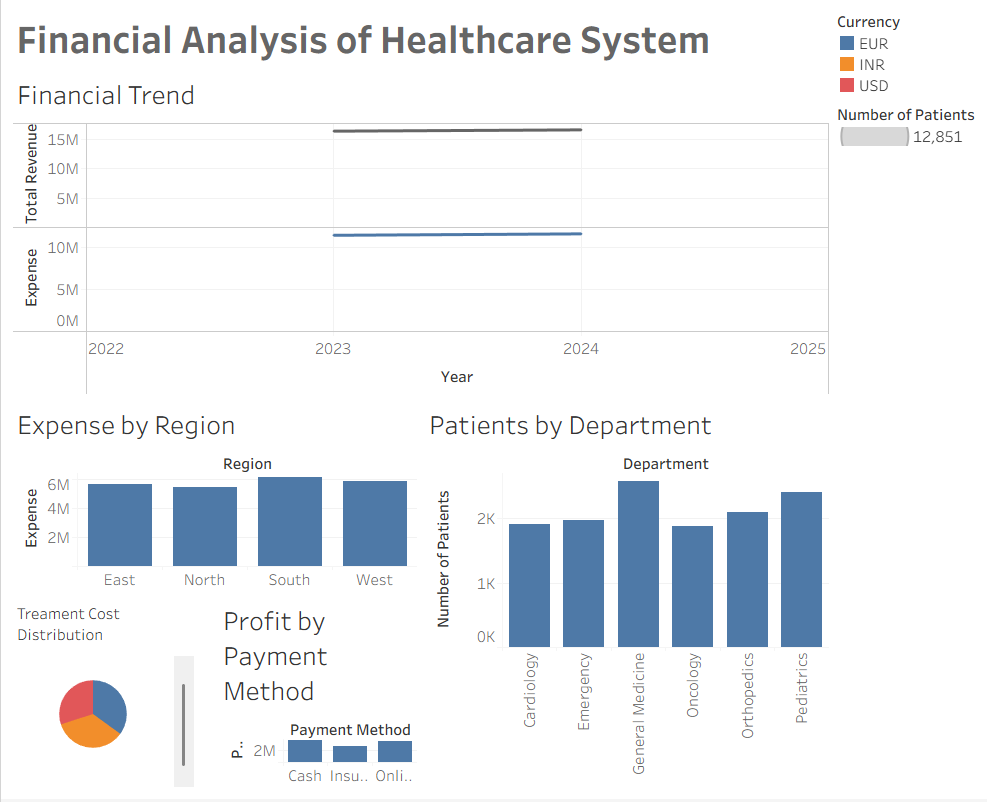

This screenshot's page, from the dashboard's own definition file:
{"tool":"tableau","page":{"name":"Dashboard 1","canvas":[1000,800],"ordinal":0},"visuals":[{"type":"text","box":[8,8,824,62]},{"type":"legend","title":"Sheet 5","param":"[federated.1ibkgc512p34u51fic8ng13ow1jx].[none:Currency:nk]","box":[832,8,160,93]},{"type":"worksheet","title":"Sheet 2","mark":"Line","rows":["Total_Revenue","Expense"],"cols":["Year"],"box":[8,70,824,330]},{"type":"legend","title":"Sheet 5","param":"[federated.1ibkgc512p34u51fic8ng13ow1jx].[sum:Number_of_Patients:qk]","box":[832,101,160,51]},{"type":"worksheet","title":"Sheet 3","mark":"Automatic","rows":["Expense"],"cols":["Region"],"box":[8,400,412,196]},{"type":"worksheet","title":"Sheet 4","mark":"Automatic","rows":["Number_of_Patients"],"cols":["Department"],"box":[420,400,412,392]},{"type":"worksheet","title":"Sheet 5","mark":"Pie","box":[8,596,206,196]},{"type":"worksheet","title":"Sheet 6","mark":"Automatic","rows":["Profit"],"cols":["Payment_Method"],"box":[214,596,206,196]}]}

Visuals, with their boxes in screenshot pixels (x1, y1, x2, y2), scaled from the page's 1000x800 canvas onto the 987x802 screenshot:
text: 8,8,821,70
"Sheet 5" legend: 821,8,979,101
"Sheet 2" worksheet (Line marks): 8,70,821,401
"Sheet 5" legend: 821,101,979,152
"Sheet 3" worksheet: 8,401,415,597
"Sheet 4" worksheet: 415,401,821,794
"Sheet 5" worksheet (Pie marks): 8,597,211,794
"Sheet 6" worksheet: 211,597,415,794
